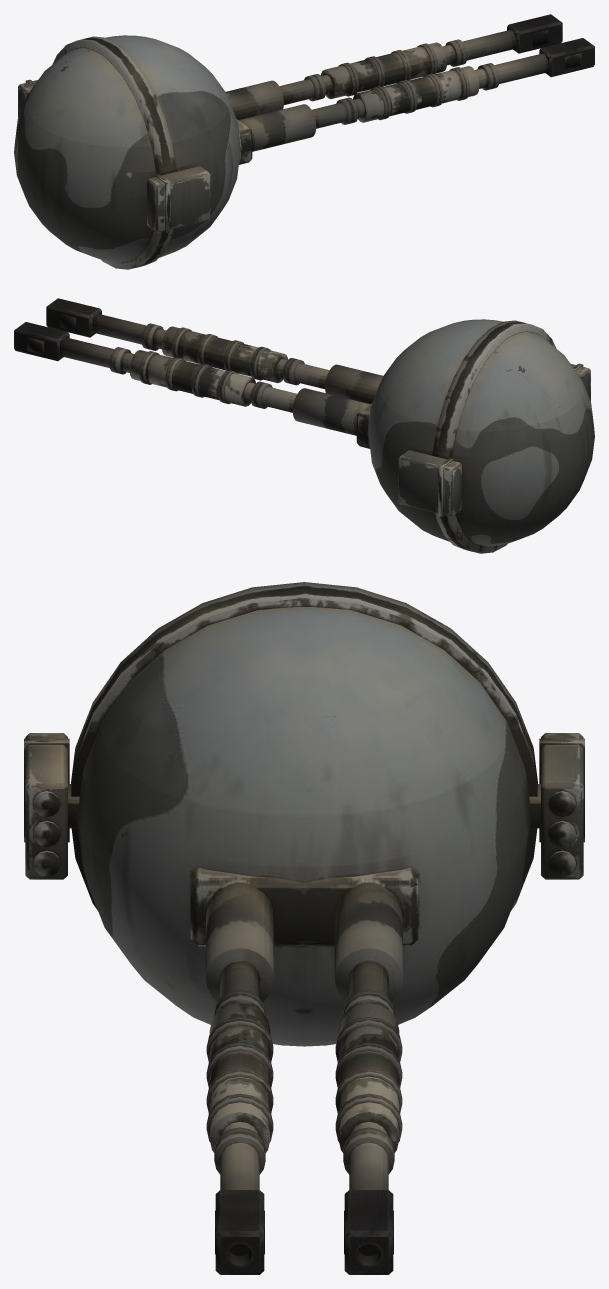
Rendered from turret_kit_tail_ball_t3_shark.glb.
3 views of the same model, one above another, from view 1: azimuth 30°, elevation 25°; view 2: azimuth 150°, elevation 25°; view 3: azimuth 270°, elevation 25° (orthographic). The views are drawn at different scales.
Parts seen in each view (by area): view 1: turret_tail_ball_t3, pods; view 2: turret_tail_ball_t3, pods; view 3: turret_tail_ball_t3, pods.
Part boxes in pixels (x1,y1,x2,y2): turret_tail_ball_t3: (14,14,594,269); pods: (18,79,210,232); turret_tail_ball_t3: (14,298,594,553); pods: (398,363,590,516); turret_tail_ball_t3: (71,582,537,1274); pods: (24,733,584,879).
Size of the model in its own units: 1.66 by 0.62 by 0.7402.
Materials: 2 (2 with a texture image).
